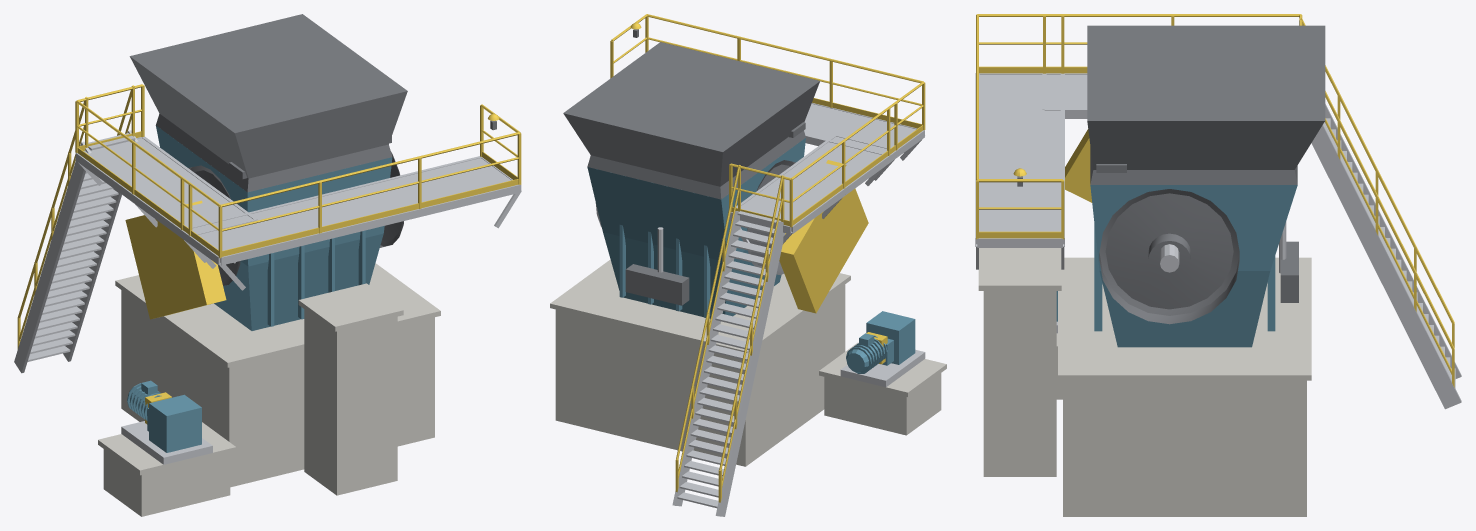
File: ore-processing-and-haulage-plant-jaw-crusher-station-d2646170.glb
The picture shows the model from 3 angles, left to right: view 1: azimuth 30°, elevation 25°; view 2: azimuth 150°, elevation 25°; view 3: azimuth 270°, elevation 25°; orthographic projection. The views are drawn at different scales.
Parts seen in each view (by area): view 1: jaw-crusher-station; view 2: jaw-crusher-station; view 3: jaw-crusher-station.
Part boxes in pixels (<box>): jaw-crusher-station: <box>14,14,521,516</box>; jaw-crusher-station: <box>550,14,946,516</box>; jaw-crusher-station: <box>975,14,1461,516</box>.
Size of the model in its own units: 7.57 by 7 by 7.97.
